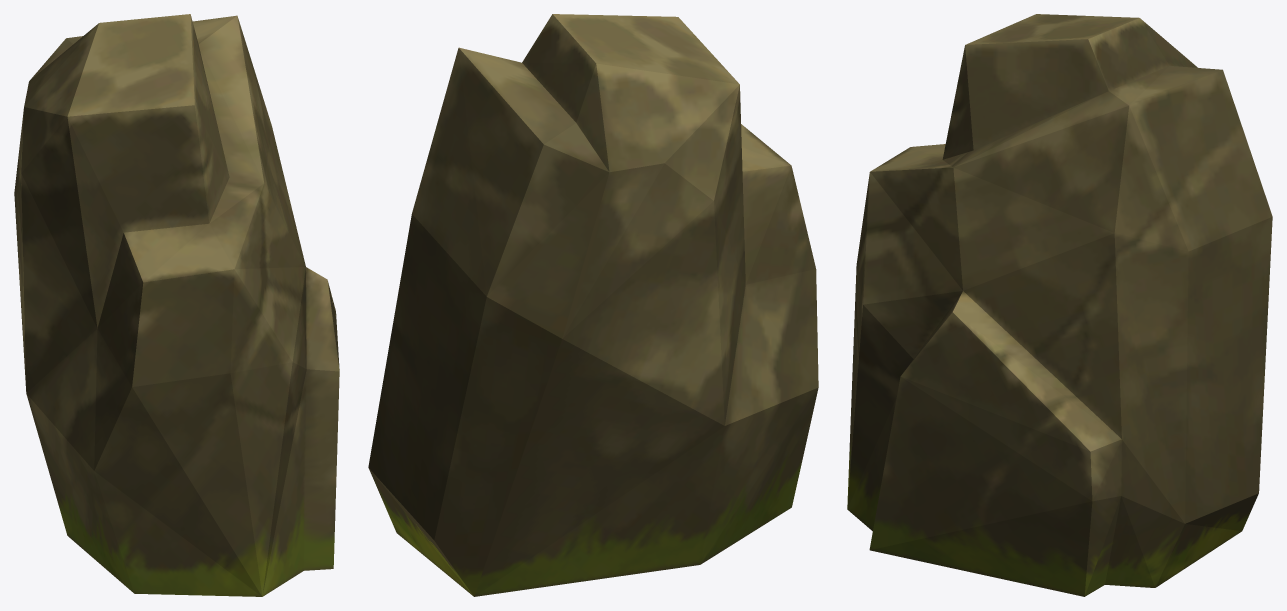
The model's file is rock_02.fbx.
The picture shows the model from 3 angles, left to right: view 1: azimuth 30°, elevation 25°; view 2: azimuth 150°, elevation 25°; view 3: azimuth 270°, elevation 25°; orthographic projection. The views are drawn at different scales.
Visible parts, largest first — view 1: obj0.009; view 2: obj0.009; view 3: obj0.009.
Boxes of the visible parts, <box> form: obj0.009: <box>14,14,339,596</box>; obj0.009: <box>368,14,818,596</box>; obj0.009: <box>847,14,1272,596</box>.
Size of the model in its own units: 2.83 by 4.08 by 3.19.
